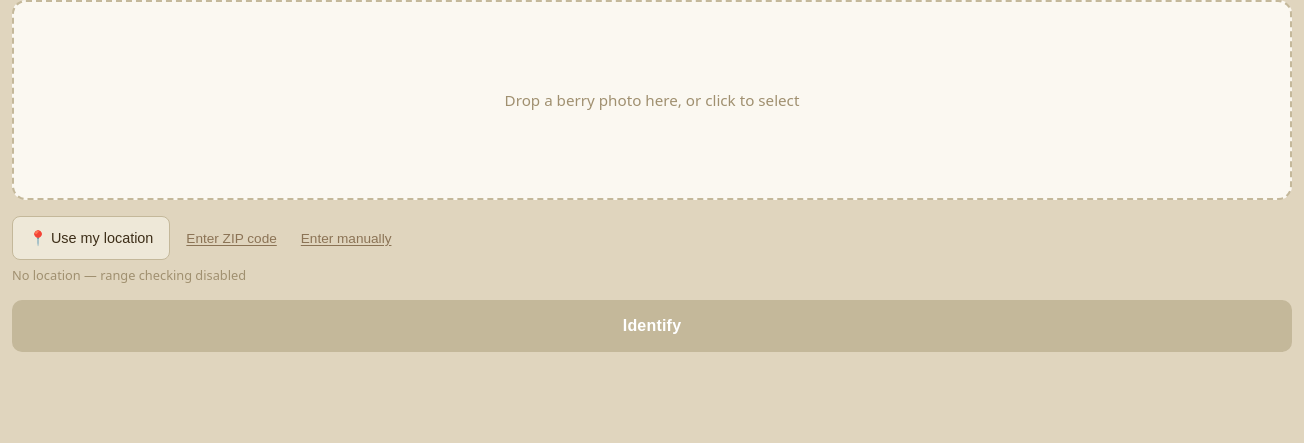
Test case: ZIP code entry › shows an error when ZIP is not found
Click the button "Enter ZIP code".
click(232, 238)  # box [178,216,285,260]
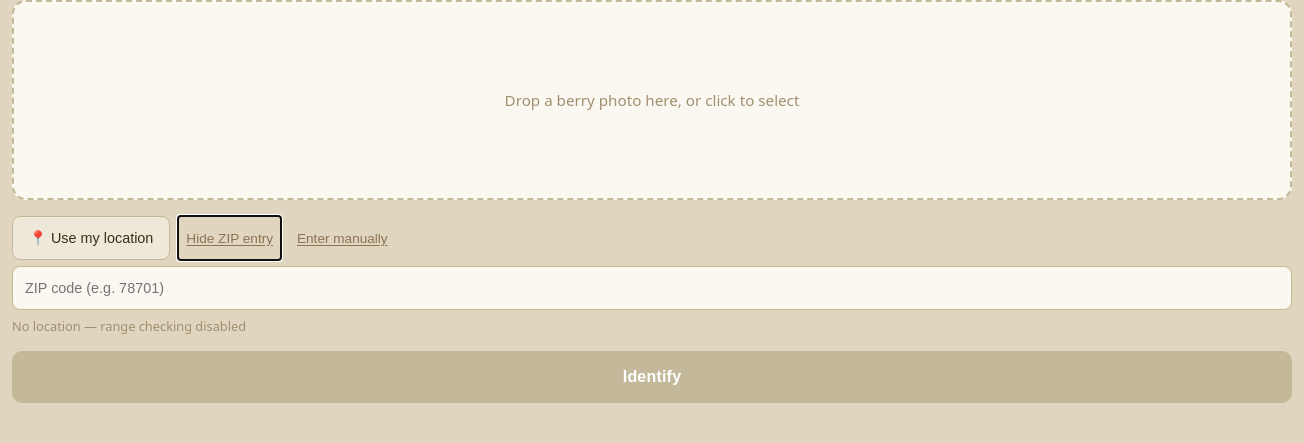
Type "00000" into the field labelled "ZIP code (e.g. 78701)".
click(652, 288); type("00000")  # box [12,266,1292,310]
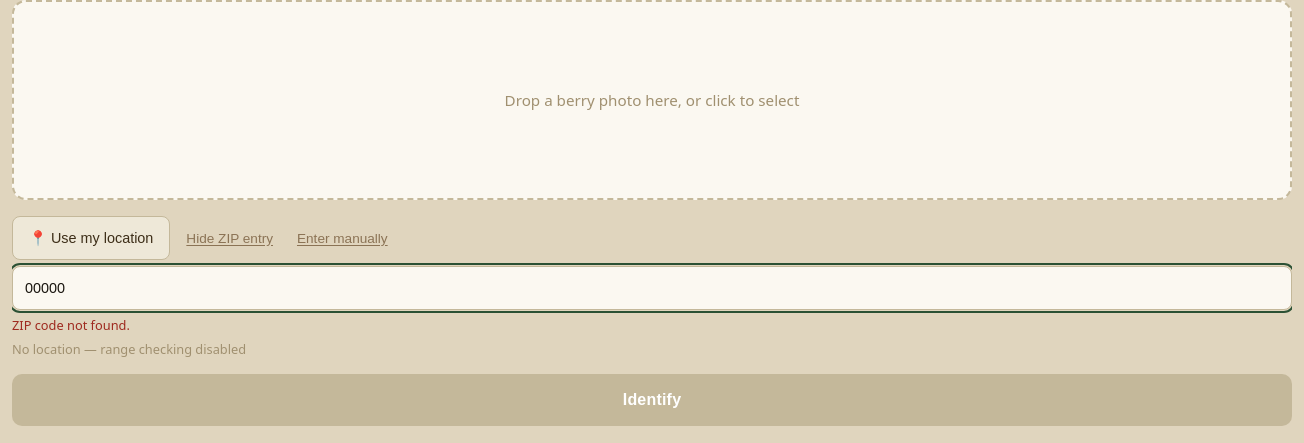
Expected: the message shows "ZIP code not found", [12,316,130,334]
